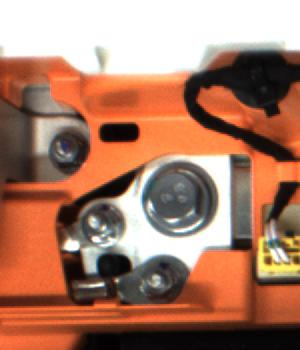nut_b: (137, 154, 222, 239)
